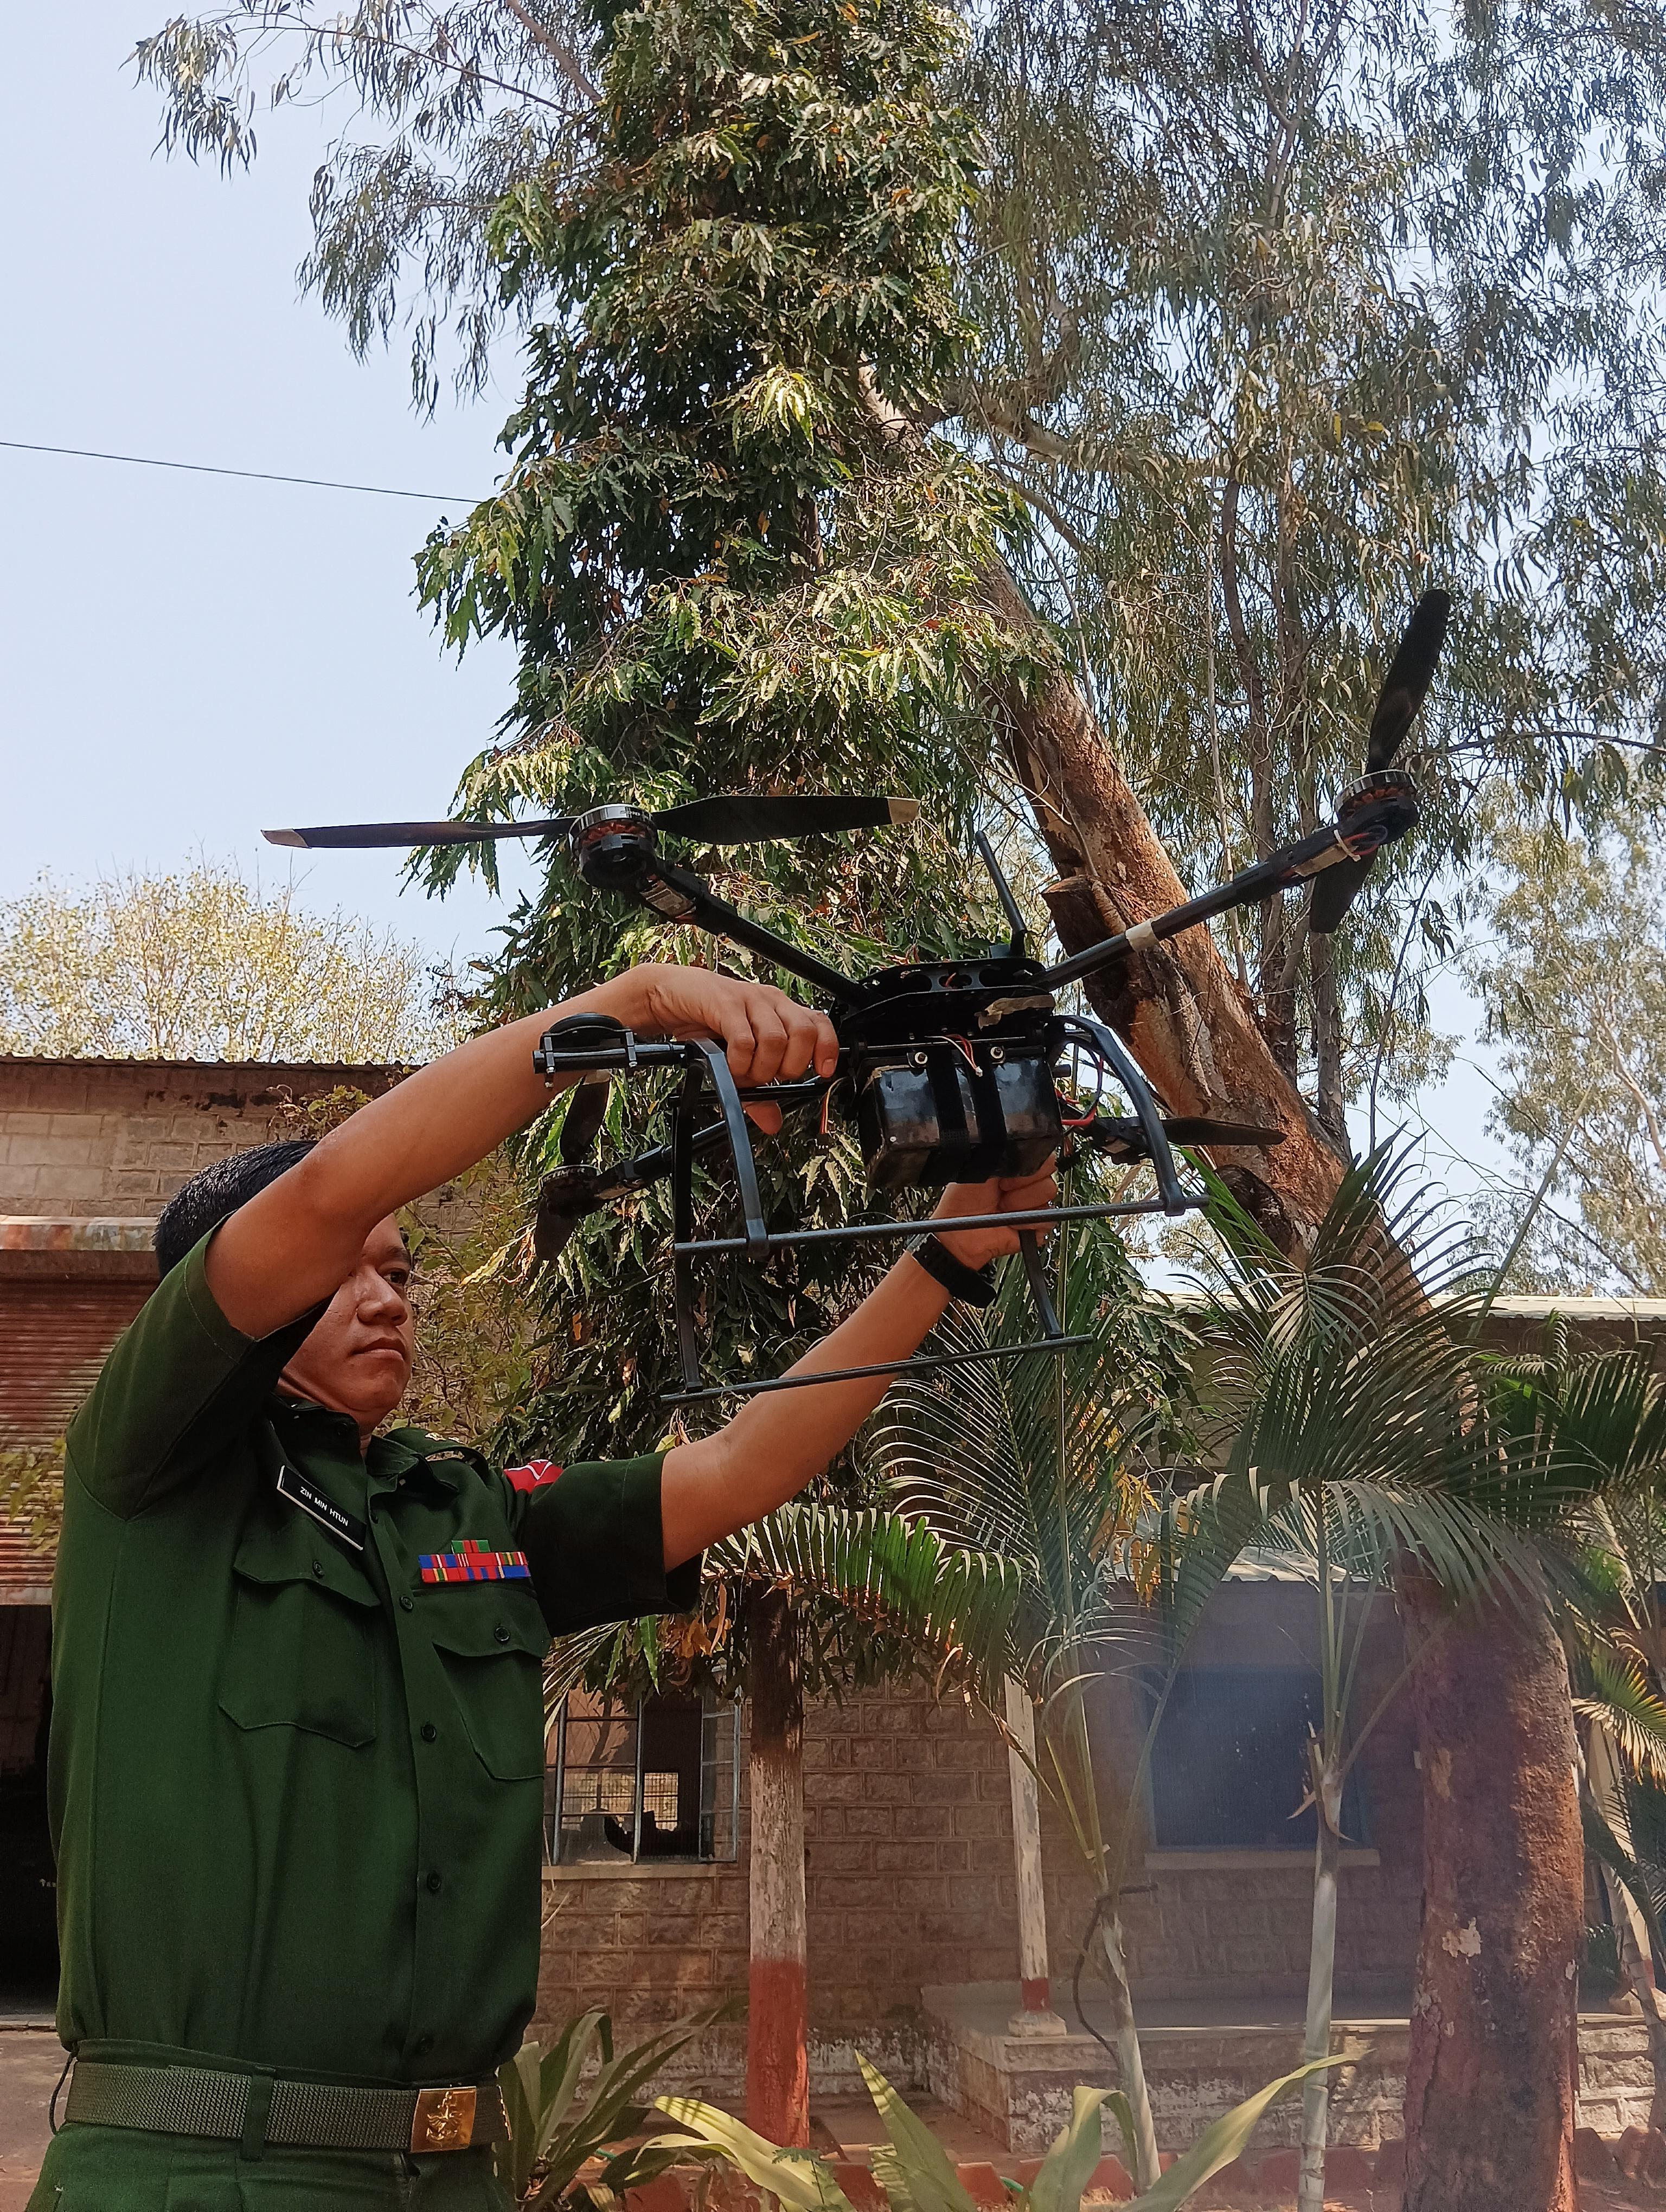drone: (235, 549, 1558, 1474)
